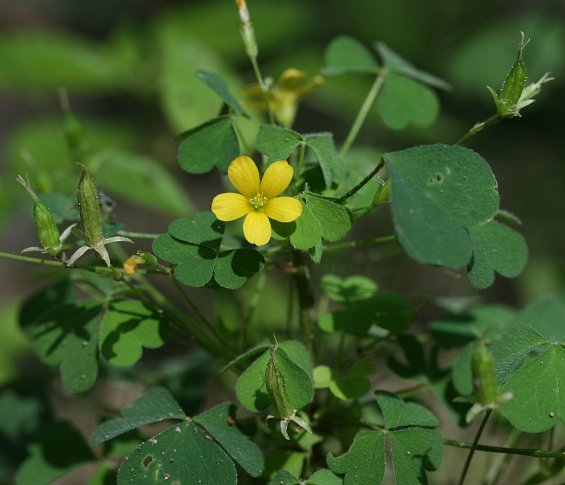oxalis: (371, 119, 513, 329), (32, 277, 191, 407), (95, 390, 248, 485), (114, 212, 262, 307), (164, 54, 257, 162)
